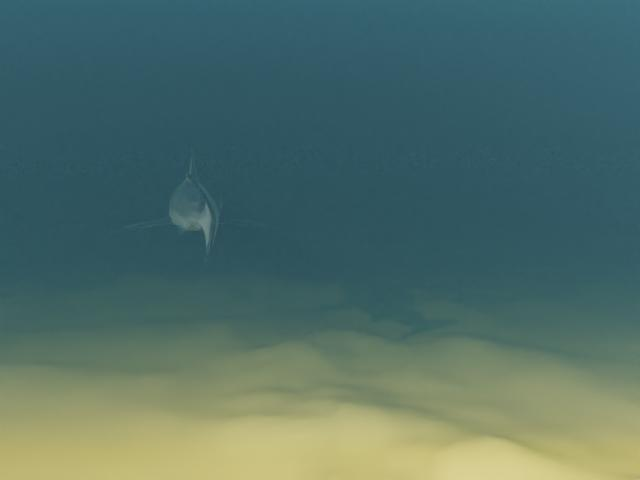Carribean Shark.001: (108, 146, 278, 261)
